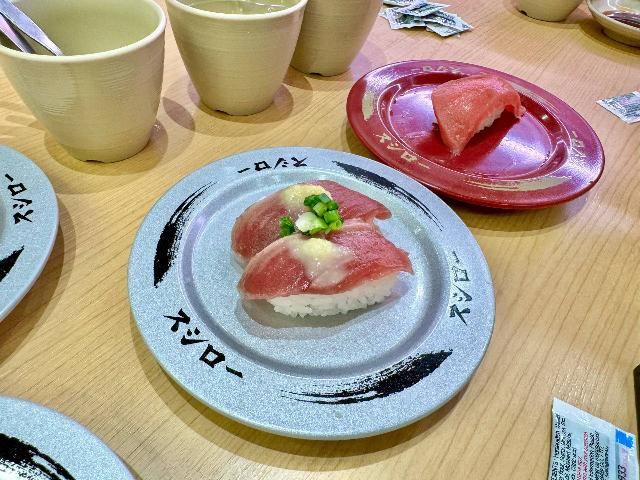janwhite: (237, 309, 509, 440), (113, 169, 235, 375), (404, 201, 505, 353), (0, 138, 75, 337), (0, 378, 140, 480), (216, 142, 366, 179)
